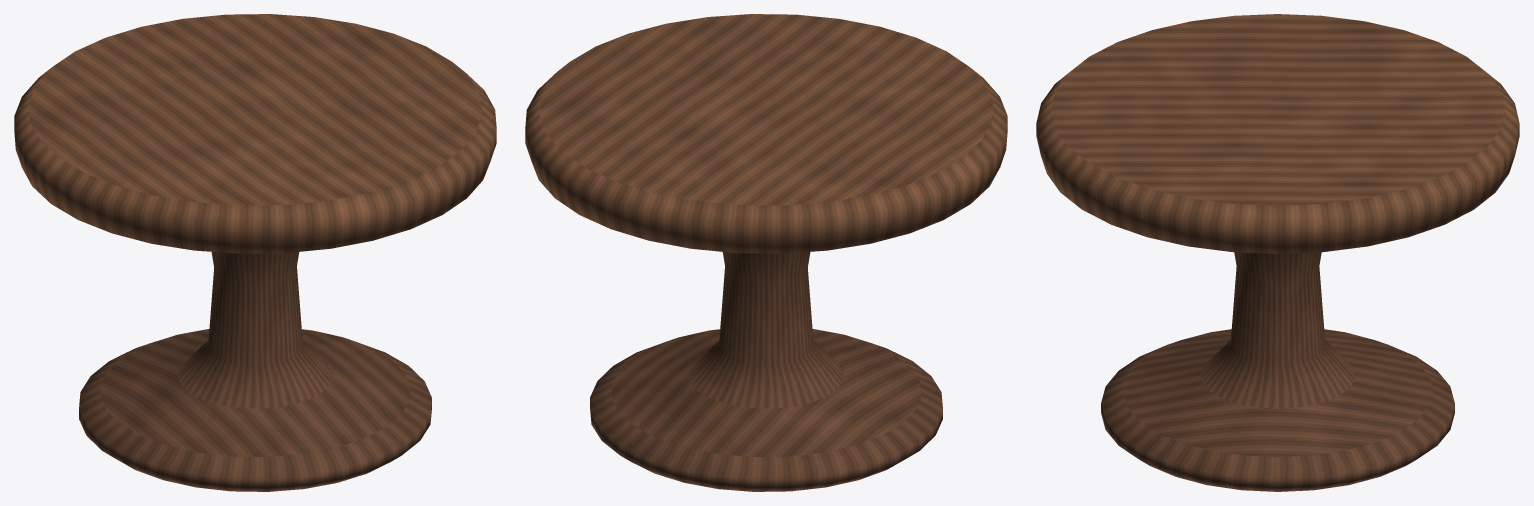
The model's file is side_table.glb.
3 renders of one model, left to right at view 1: azimuth 30°, elevation 25°; view 2: azimuth 150°, elevation 25°; view 3: azimuth 270°, elevation 25°, orthographic.
Visible parts, largest first — view 1: Top, Pedestal; view 2: Top, Pedestal; view 3: Top, Pedestal.
Boxes of the visible parts, left/top/right/bottom form: Top: left=14, top=14, right=496, bottom=253; Pedestal: left=79, top=252, right=431, bottom=491; Top: left=525, top=14, right=1007, bottom=253; Pedestal: left=590, top=252, right=942, bottom=491; Top: left=1036, top=14, right=1519, bottom=253; Pedestal: left=1101, top=252, right=1454, bottom=491.
Bounding box in the file's own units: 0.56 × 0.4 × 0.56.
Materials: 3 (3 with a texture image).
